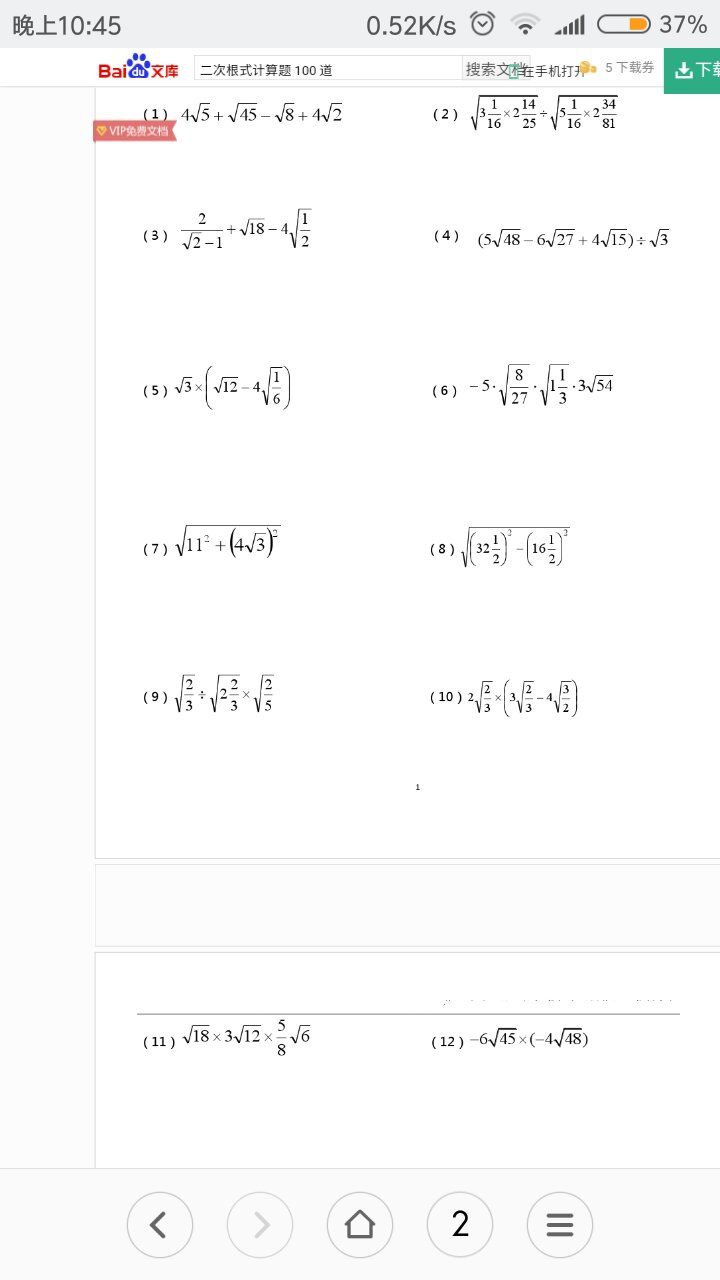division: (182, 224, 222, 236), (508, 384, 529, 393), (269, 384, 285, 395), (257, 690, 274, 700), (487, 108, 501, 119), (274, 1032, 287, 1041), (523, 109, 536, 117), (569, 110, 582, 118), (229, 691, 240, 700), (298, 227, 312, 234), (179, 692, 195, 698), (522, 694, 534, 702), (555, 384, 567, 392), (602, 112, 617, 118), (481, 696, 492, 704), (489, 545, 499, 553), (560, 696, 573, 702), (545, 547, 555, 553)
sqrt: (461, 522, 569, 576), (454, 523, 560, 561), (465, 93, 538, 134), (551, 93, 617, 130), (211, 671, 244, 716), (541, 359, 570, 410), (174, 519, 210, 560), (180, 512, 203, 564), (260, 367, 286, 409), (456, 516, 489, 545), (233, 1023, 264, 1053), (291, 204, 311, 250), (178, 669, 194, 719), (237, 216, 268, 241), (556, 1024, 582, 1053), (588, 372, 614, 400), (192, 99, 216, 129), (256, 675, 274, 715), (226, 101, 255, 125), (602, 224, 627, 250), (320, 100, 342, 129), (549, 227, 575, 251), (214, 374, 242, 396), (489, 1024, 513, 1049), (477, 677, 493, 714), (493, 229, 520, 250), (247, 529, 270, 553), (277, 97, 294, 127), (560, 678, 573, 716), (185, 1024, 208, 1044), (177, 374, 195, 399), (519, 680, 532, 714), (186, 230, 201, 251), (230, 97, 243, 116)
square: (558, 527, 575, 541), (504, 527, 516, 539), (199, 532, 209, 544)
